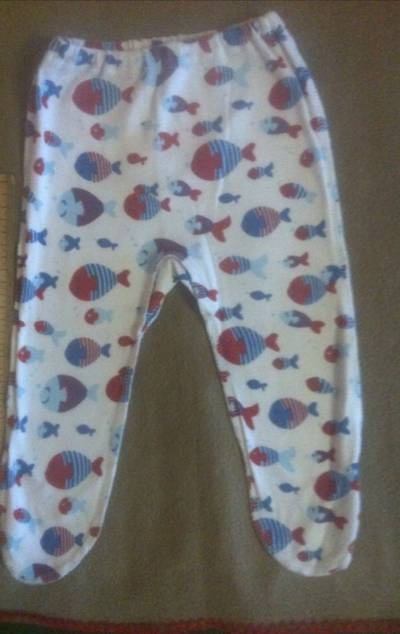Pants: (11, 19, 374, 595)
